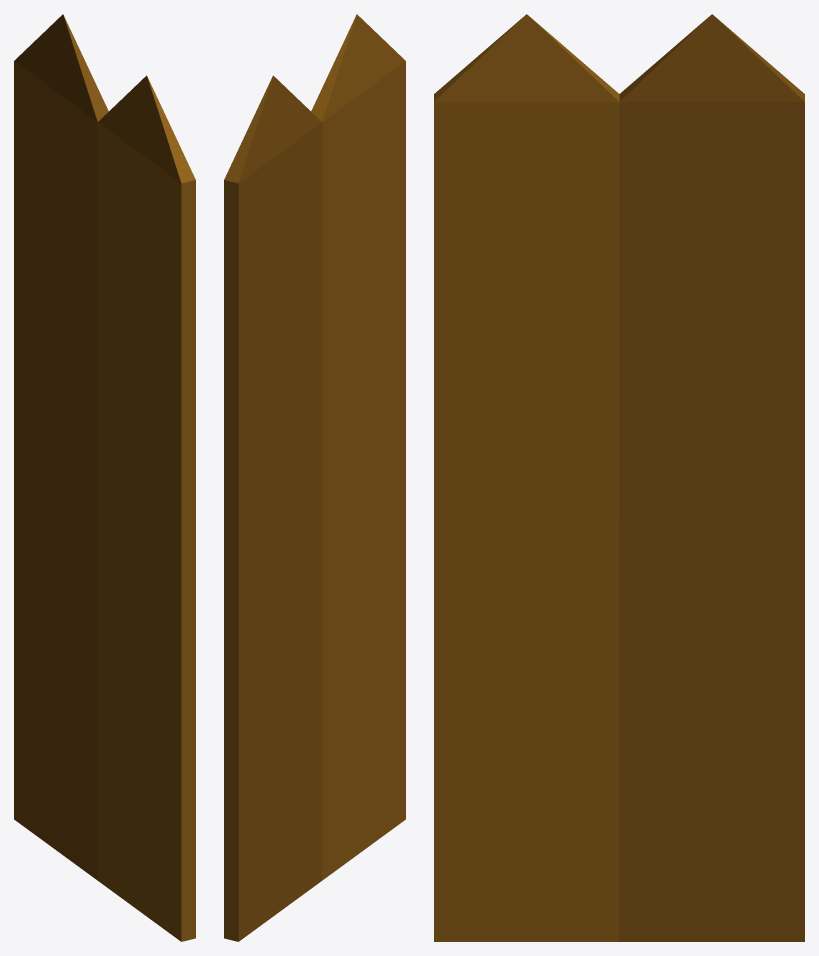
The model's file is woodfence_short.fbx.
3 views of the same model, side by side, from view 1: azimuth 30°, elevation 25°; view 2: azimuth 150°, elevation 25°; view 3: azimuth 270°, elevation 25° (orthographic). The views are drawn at different scales.
Parts seen in each view (by area): view 1: Cube.001, Cube; view 2: Cube, Cube.001; view 3: Cube, Cube.001.
Part boxes in pixels (x1,y1,x2,y2): Cube.001: (97, 75, 195, 941); Cube: (14, 14, 108, 880); Cube: (224, 75, 322, 941); Cube.001: (311, 14, 405, 880); Cube: (619, 14, 804, 941); Cube.001: (434, 14, 619, 941).
Size of the model in its own units: 0.2 by 11 by 4.
